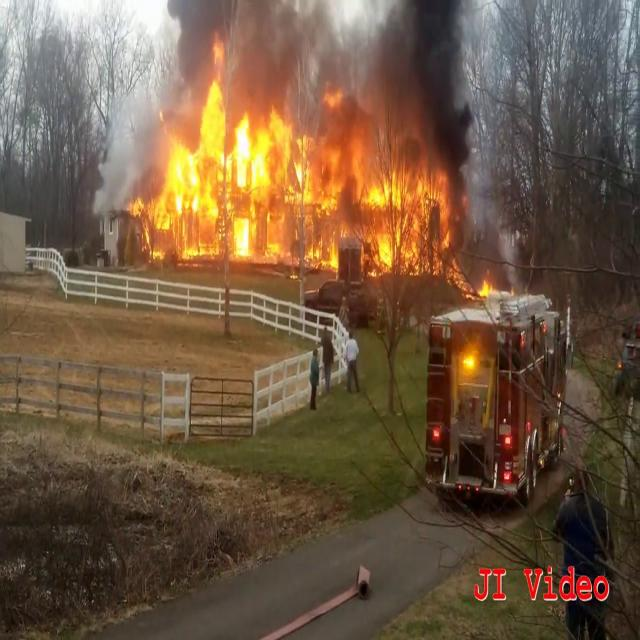Fire: (128, 65, 449, 274), (476, 271, 501, 299)
Smoke: (148, 0, 380, 100), (371, 0, 482, 183)
